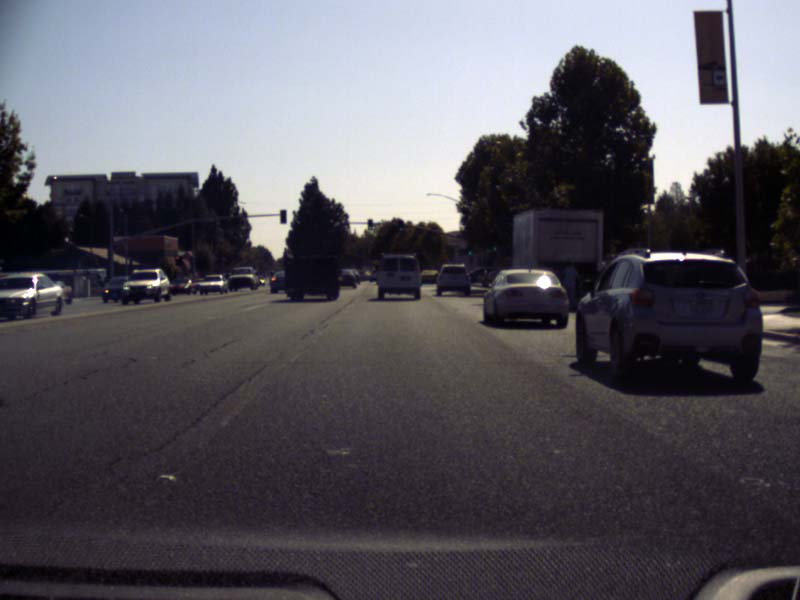Green: (467, 245, 473, 256), (367, 218, 372, 230), (397, 220, 402, 232), (492, 246, 498, 251)
Red: (328, 217, 333, 229)
